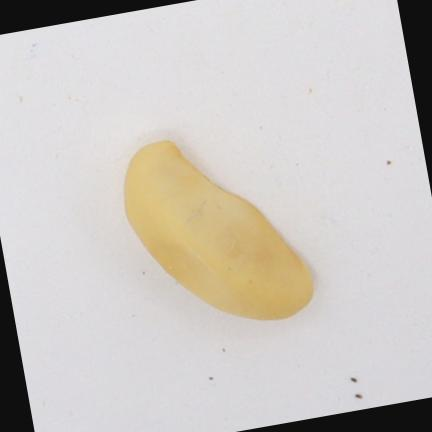parchment: (124, 141, 313, 320)
